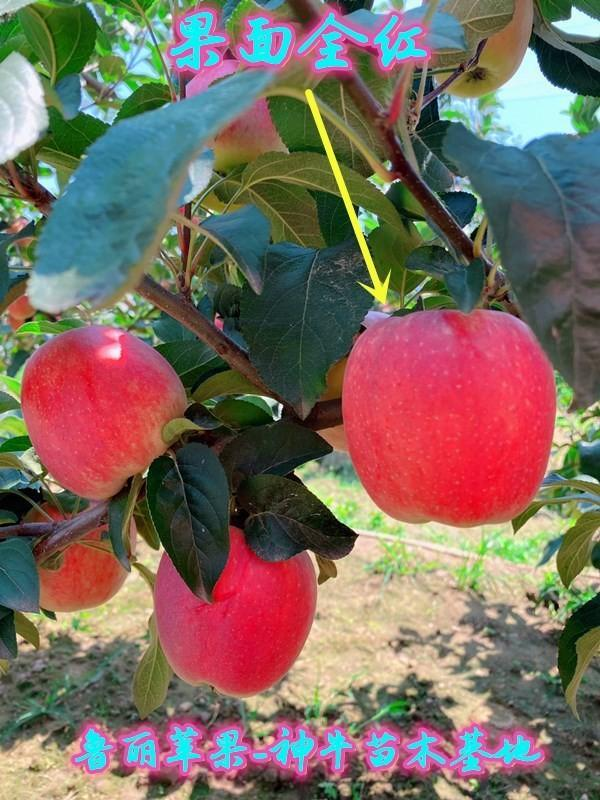apple: (340, 305, 556, 522), (18, 322, 190, 503), (153, 526, 318, 698), (22, 504, 136, 612), (424, 1, 533, 97)
